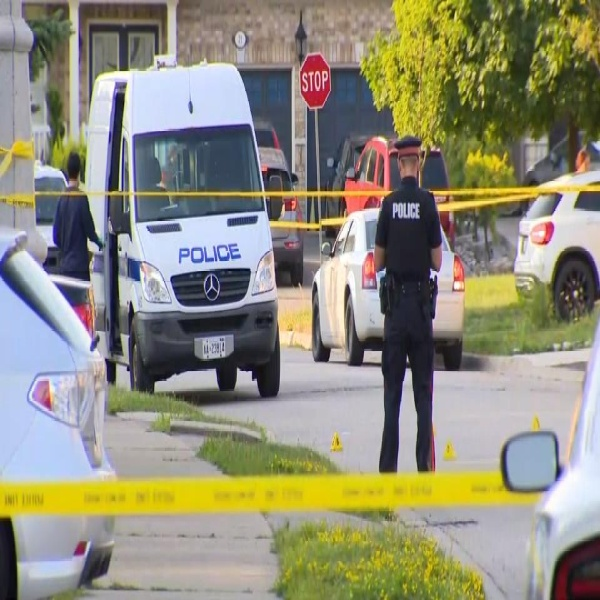stop: (293, 53, 339, 115)
